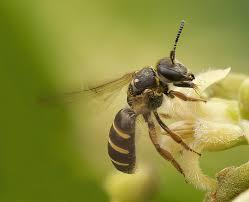Lasioglossum: (102, 17, 207, 178)
